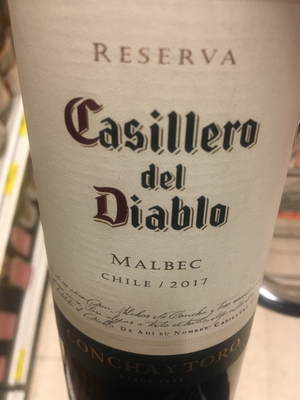casillero del diablo malbec: (8, 2, 299, 400)
